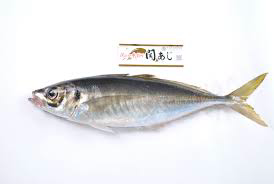azi: (25, 70, 266, 129)
